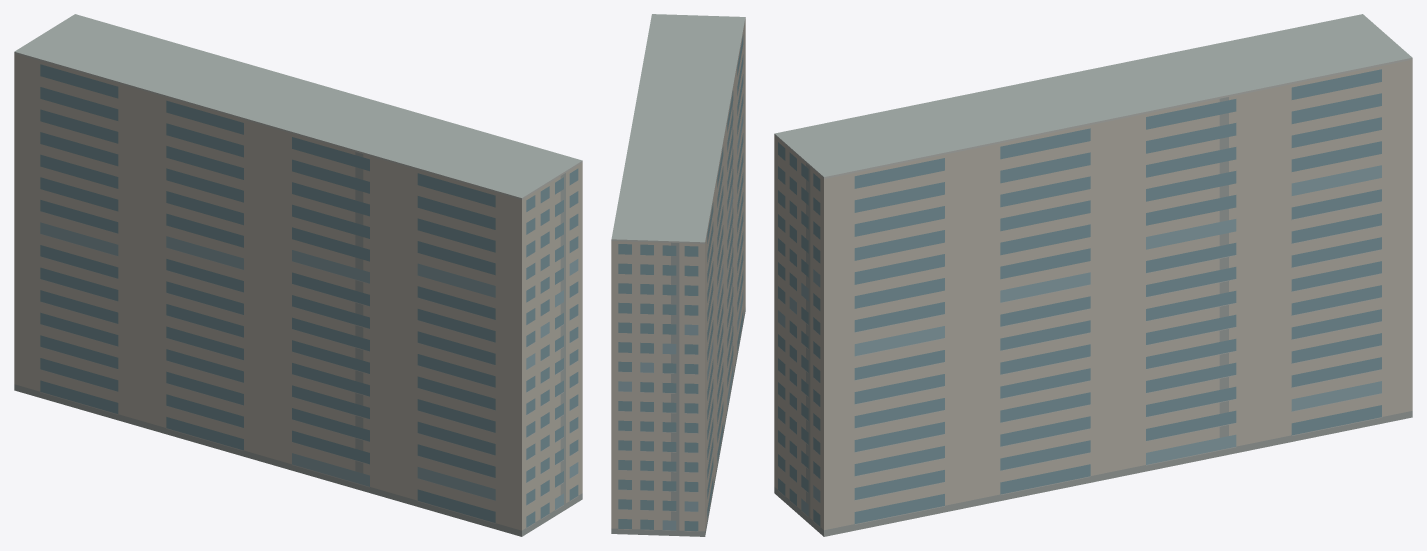
Rendered from residential-2b44cf1a-2b62-4c6d-b5e1-f260a0bcd620.glb.
3 views of the same model, side by side, from view 1: azimuth 30°, elevation 25°; view 2: azimuth 150°, elevation 25°; view 3: azimuth 270°, elevation 25° (orthographic). The views are drawn at different scales.
Parts seen in each view (by area): view 1: residential-2b44cf1a-2b62-4c6d-b5e1-f260a0bcd620.tmp; view 2: residential-2b44cf1a-2b62-4c6d-b5e1-f260a0bcd620.tmp; view 3: residential-2b44cf1a-2b62-4c6d-b5e1-f260a0bcd620.tmp.
Part boxes in pixels (box(x1,y1,x2,y2)): residential-2b44cf1a-2b62-4c6d-b5e1-f260a0bcd620.tmp: box(14, 14, 582, 536); residential-2b44cf1a-2b62-4c6d-b5e1-f260a0bcd620.tmp: box(611, 14, 745, 536); residential-2b44cf1a-2b62-4c6d-b5e1-f260a0bcd620.tmp: box(774, 14, 1412, 536).
Size of the model in its own units: 44.5 by 45.75 by 73.55.
